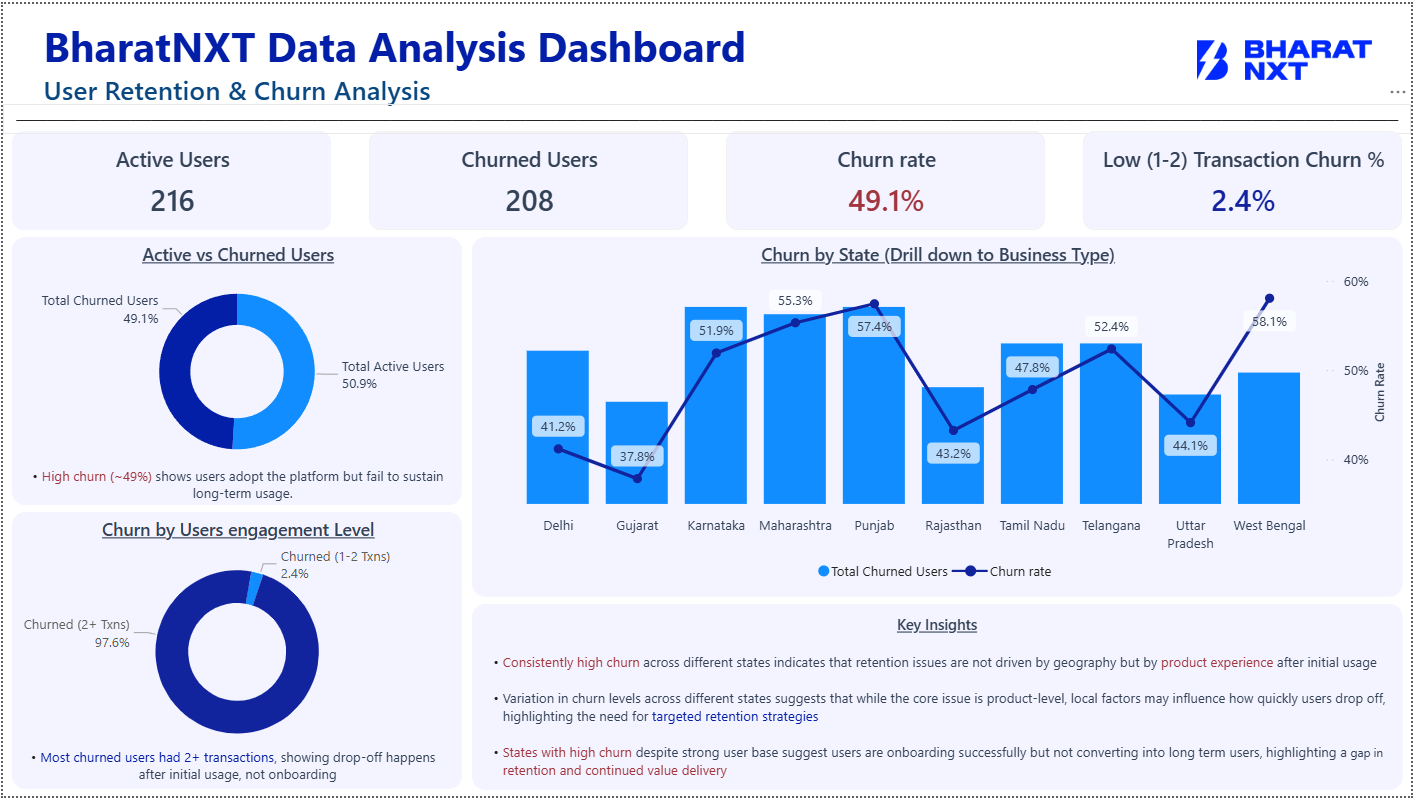

The dashboard page shown, as its layout file describes it:
{"tool":"powerbi","page":{"name":"User Retention & Churn Analysis","canvas":[1280,720],"ordinal":2},"visuals":[{"type":"textbox","box":[32,7,656,62],"z":0},{"type":"cardVisual","fields":{"Data":["Measures Table.Total Active Users"]},"box":[8,115,290,90],"z":1000},{"type":"cardVisual","fields":{"Data":["Measures Table.Total Churned Users"]},"box":[332.7,115,290,90],"z":2000},{"type":"cardVisual","fields":{"Data":["Measures Table.Churn rate"]},"box":[657.3,115,290,90],"z":3000},{"type":"textbox","box":[31.8,56.4,523.6,45.5],"z":4000},{"type":"textbox","box":[0,91,1280,27],"z":5000},{"type":"donutChart","title":"Active vs Churned Users","fields":{"Y":["Measures Table.Total Active Users","Measures Table.Total Churned Users"]},"box":[8.2,211.8,409.1,223.6],"z":6000},{"type":"lineClusteredColumnComboChart","title":"Churn by State (Drill down to Business Type)","fields":{"Y2":["Measures Table.Churn rate"],"Y":["Measures Table.Total Churned Users"],"Category":["User MIS copy.State","User MIS copy.Business Type"]},"box":[426.7,212.2,845.6,326.7],"z":7000},{"type":"cardVisual","fields":{"Data":["Measures Table.Low Transaction Churn %"]},"box":[982,115,290,90],"z":8000},{"type":"textbox","box":[8.2,415.5,409.1,40],"z":9000},{"type":"textbox","box":[1,415,416,49],"z":10000},{"type":"textbox","box":[8.2,674,409.1,40],"z":11000},{"type":"donutChart","title":"Churn by Users engagement Level","fields":{"Y":["Measures Table.Churned Users (1-2 Txns)","Measures Table.Churned Users (3+ Txns)"]},"box":[8,462,409.3,233.3],"z":12000},{"type":"textbox","box":[0,671,409,43],"z":13000},{"type":"textbox","box":[426.7,545.6,845.6,168.9],"z":14000},{"type":"image","box":[1085,0,159,102],"z":15000}]}

Visuals, with their boxes in screenshot pixels (x1, y1, x2, y2), scaled from the page's 1280x720 canvas onto the 1413x799 screenshot:
textbox: left=35, top=8, right=759, bottom=77
cardVisual - Measures Table.Total Active Users: left=9, top=128, right=329, bottom=227
cardVisual - Measures Table.Total Churned Users: left=367, top=128, right=687, bottom=227
cardVisual - Measures Table.Churn rate: left=726, top=128, right=1046, bottom=227
textbox: left=35, top=63, right=613, bottom=113
textbox: left=0, top=101, right=1412, bottom=131
"Active vs Churned Users" donutChart: left=9, top=235, right=461, bottom=483
"Churn by State (Drill down to Business Type)" lineClusteredColumnComboChart: left=471, top=235, right=1404, bottom=598
cardVisual - Measures Table.Low Transaction Churn %: left=1084, top=128, right=1404, bottom=227
textbox: left=9, top=461, right=461, bottom=505
textbox: left=1, top=461, right=460, bottom=515
textbox: left=9, top=748, right=461, bottom=792
"Churn by Users engagement Level" donutChart: left=9, top=513, right=461, bottom=772
textbox: left=0, top=745, right=451, bottom=792
textbox: left=471, top=605, right=1404, bottom=793
image: left=1198, top=0, right=1373, bottom=113
